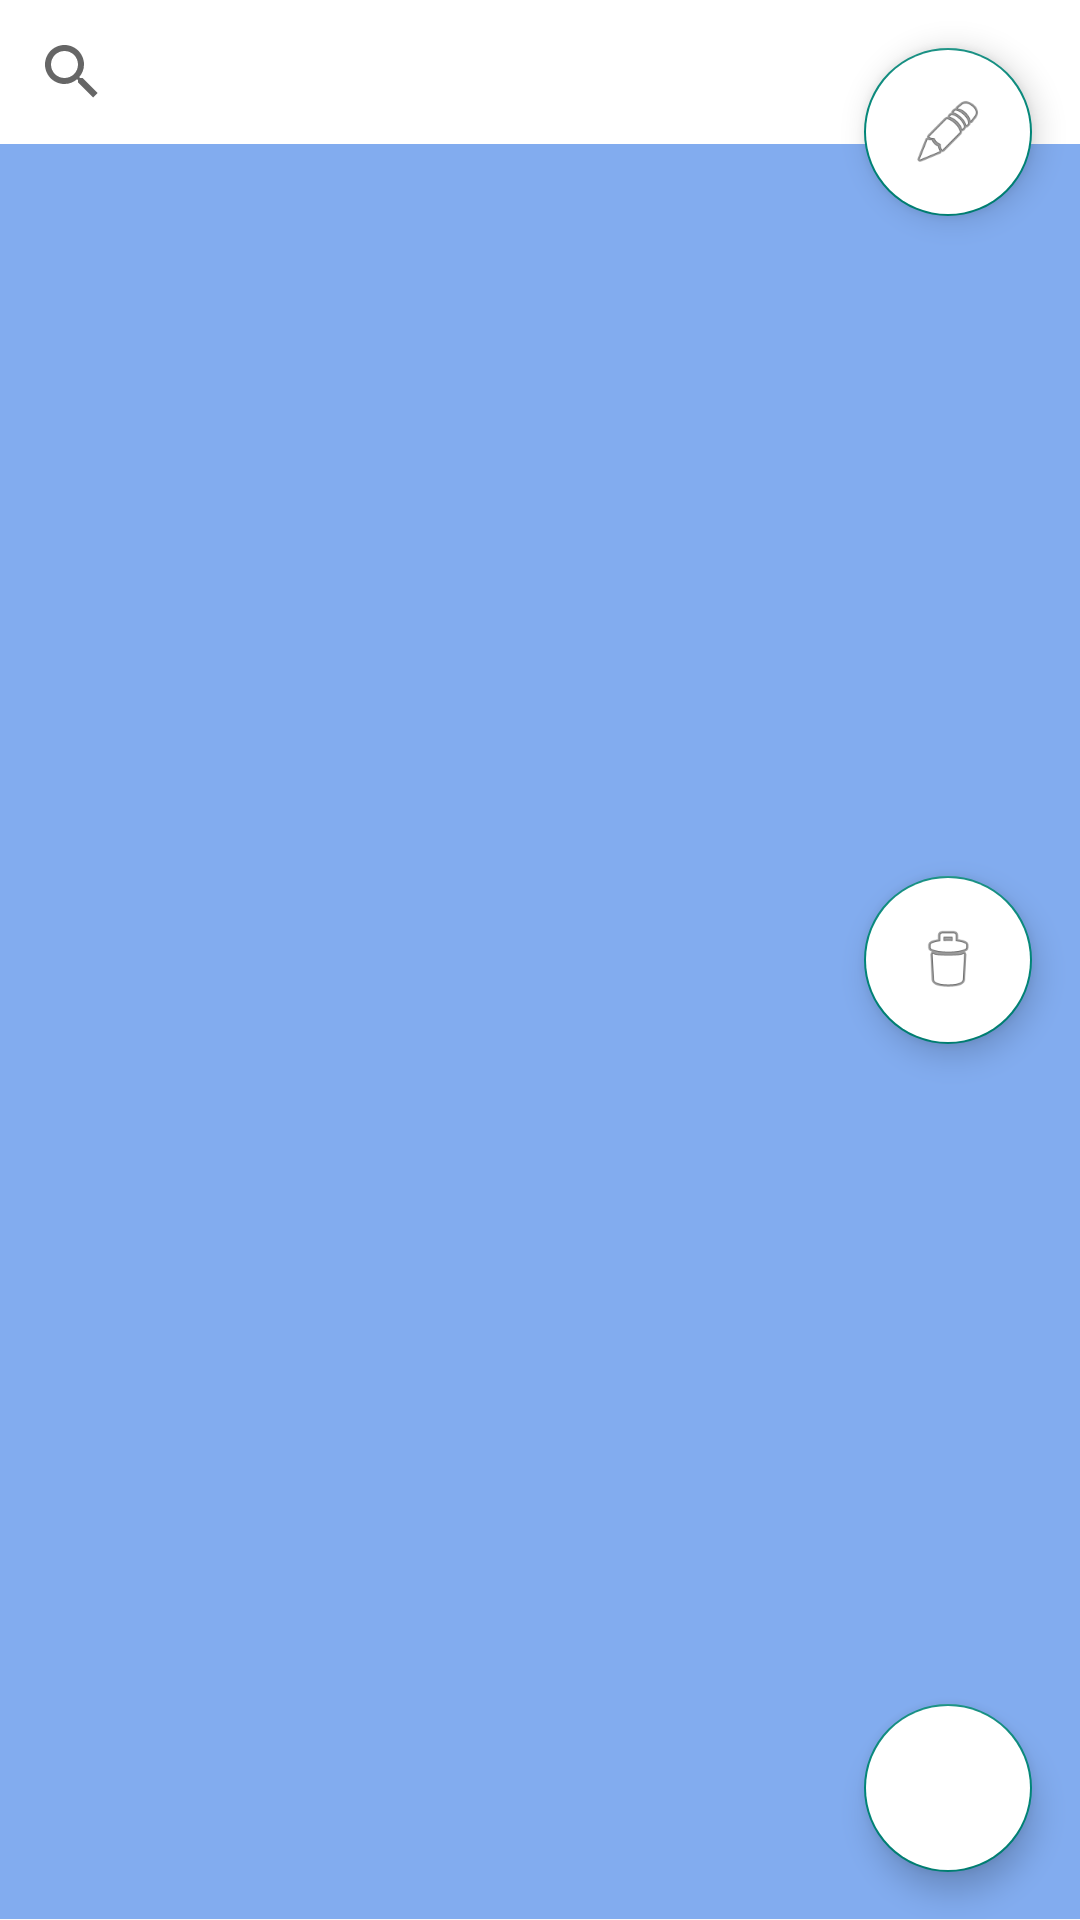

Icon click points for this 1080x1920 phone screenshot, format (x=x, y=y):
delete: (x=948, y=960)
edit: (x=948, y=132)
